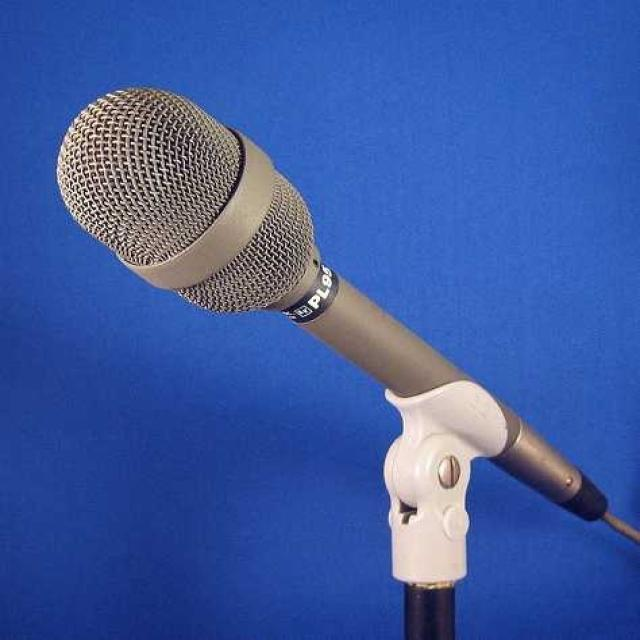microphone: (71, 103, 591, 542)
